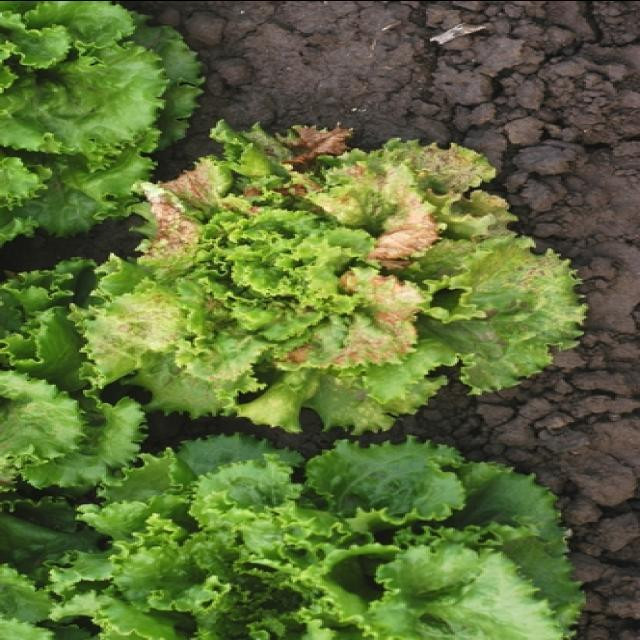Lettuce: (86, 120, 591, 435), (58, 433, 578, 640), (0, 0, 204, 244), (0, 253, 147, 512)
